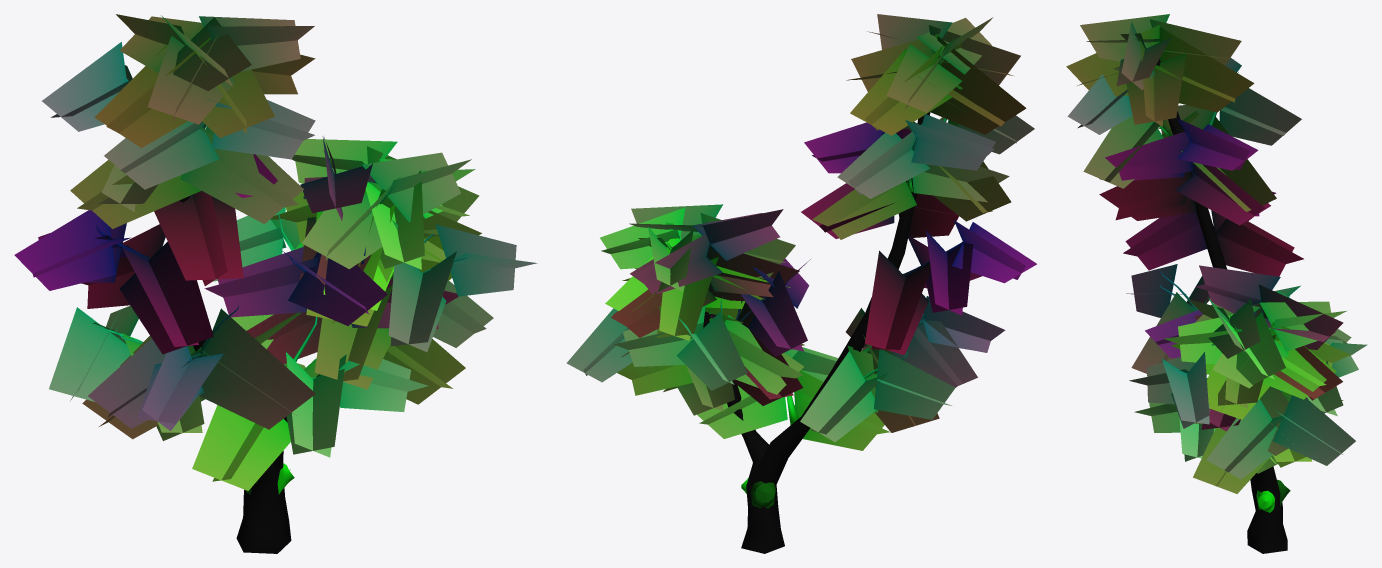
File: M_Realistic7_17.fbx
3 renders of one model, left to right at view 1: azimuth 30°, elevation 25°; view 2: azimuth 150°, elevation 25°; view 3: azimuth 270°, elevation 25°, orthographic. The views are drawn at different scales.
Parts seen in each view (by area): view 1: Tree_17; view 2: Tree_17; view 3: Tree_17.
Part boxes in pixels (x1,y1,x2,y2): Tree_17: (14, 14, 537, 553); Tree_17: (566, 14, 1036, 553); Tree_17: (1066, 14, 1367, 553).
Bounding box in the file's own units: 1791 × 2097 × 1221.
